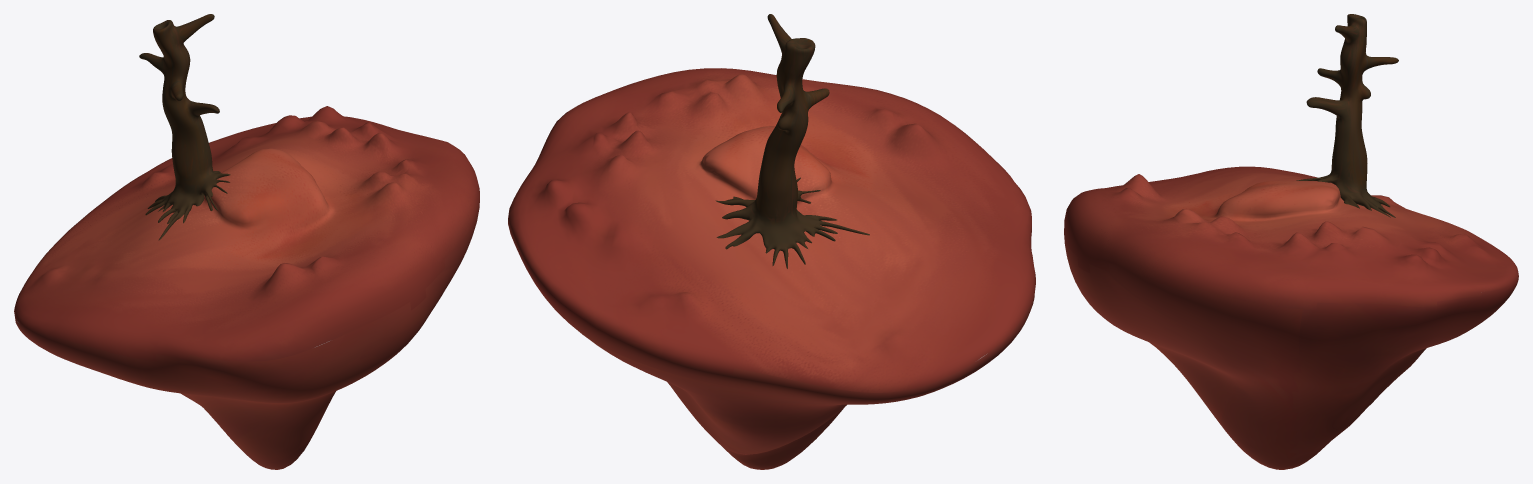
File: island_Tree.fbx
3 renders of one model, left to right at view 1: azimuth 30°, elevation 25°; view 2: azimuth 150°, elevation 25°; view 3: azimuth 270°, elevation 25°, orthographic. The views are drawn at different scales.
Parts seen in each view (by area): view 1: Island_01, Merged_Tree_roots42; view 2: Island_01, Merged_Tree_roots42; view 3: Island_01, Merged_Tree_roots42.
Part boxes in pixels (x1,y1,x2,y2): Island_01: (14,106,479,469); Merged_Tree_roots42: (139,14,230,240); Island_01: (508,68,1035,469); Merged_Tree_roots42: (715,14,869,268); Island_01: (1064,166,1518,469); Merged_Tree_roots42: (1296,14,1398,217).
Size of the model in its own units: 1.27 by 1.27 by 1.23.
